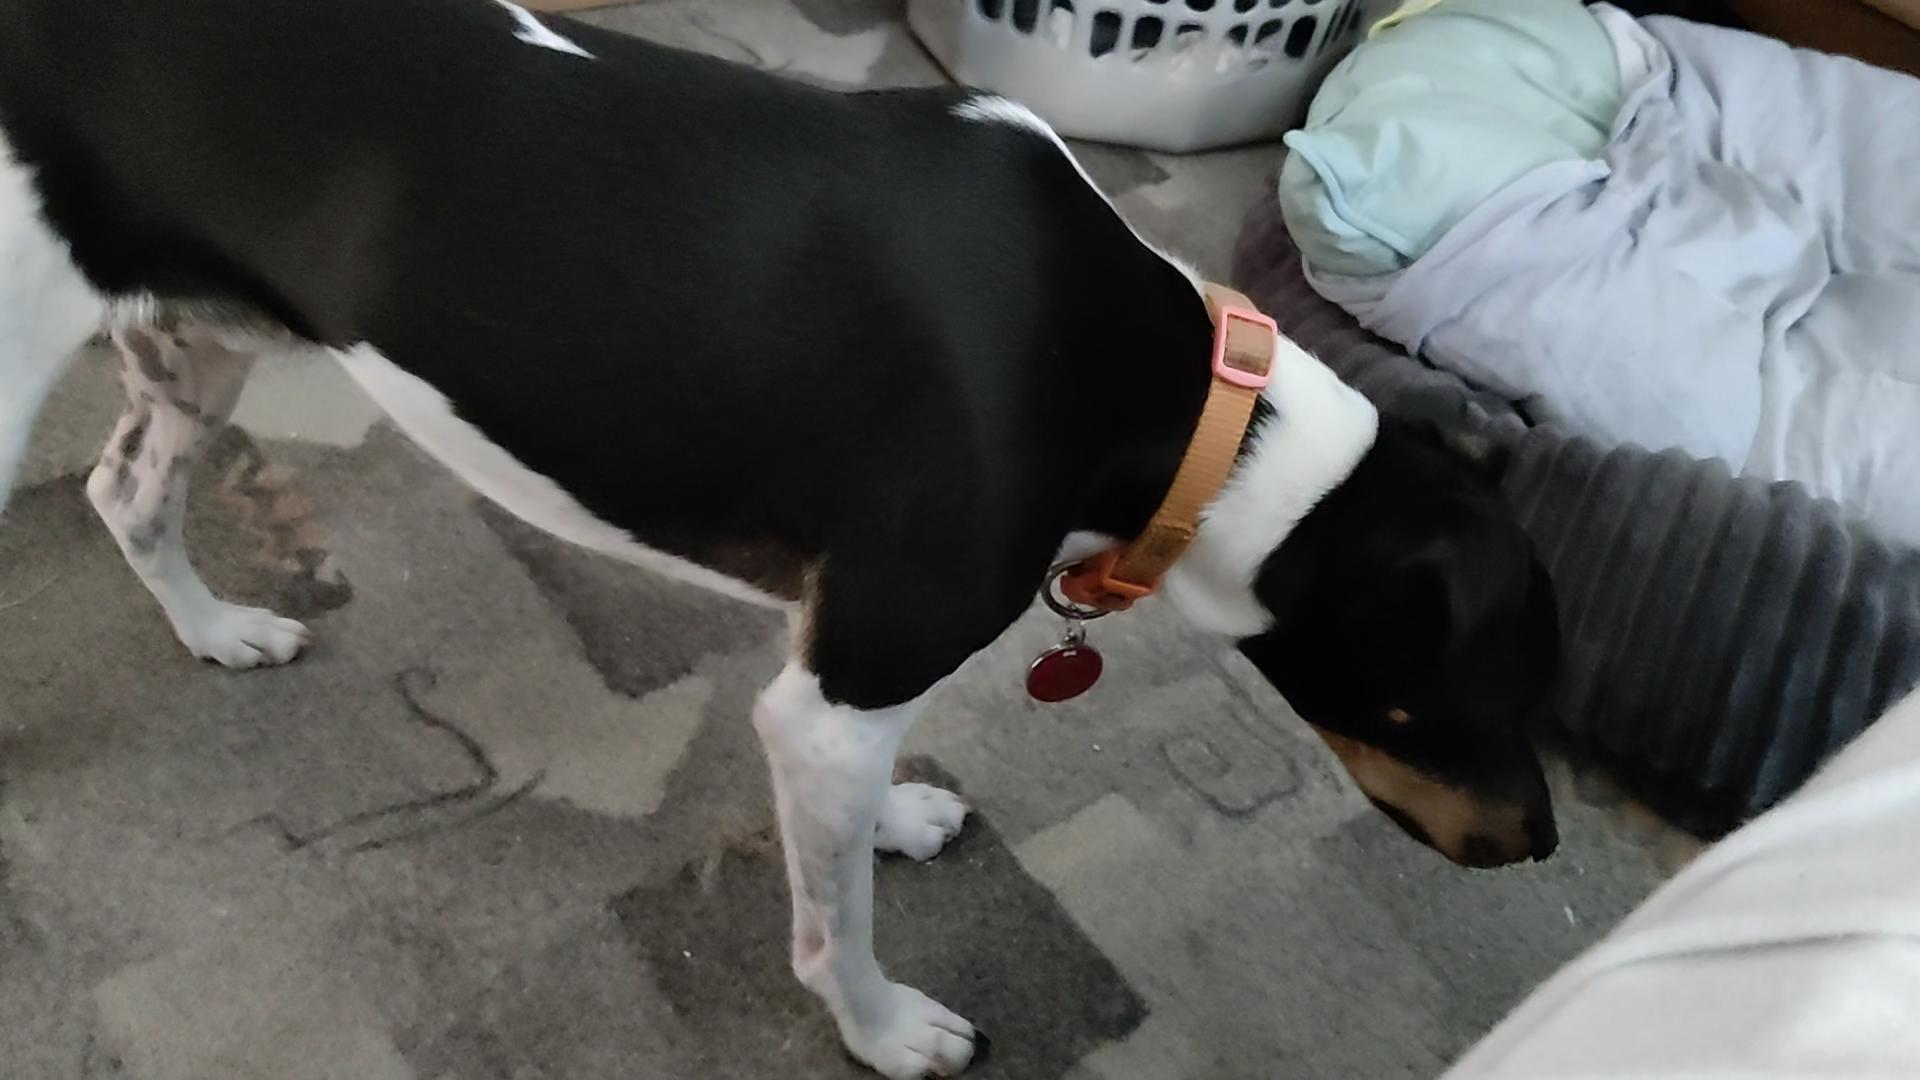Dog: (0, 0, 1567, 1079)
